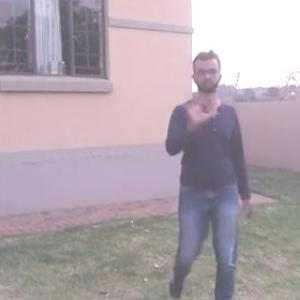follow_hand: (182, 84, 216, 126)
